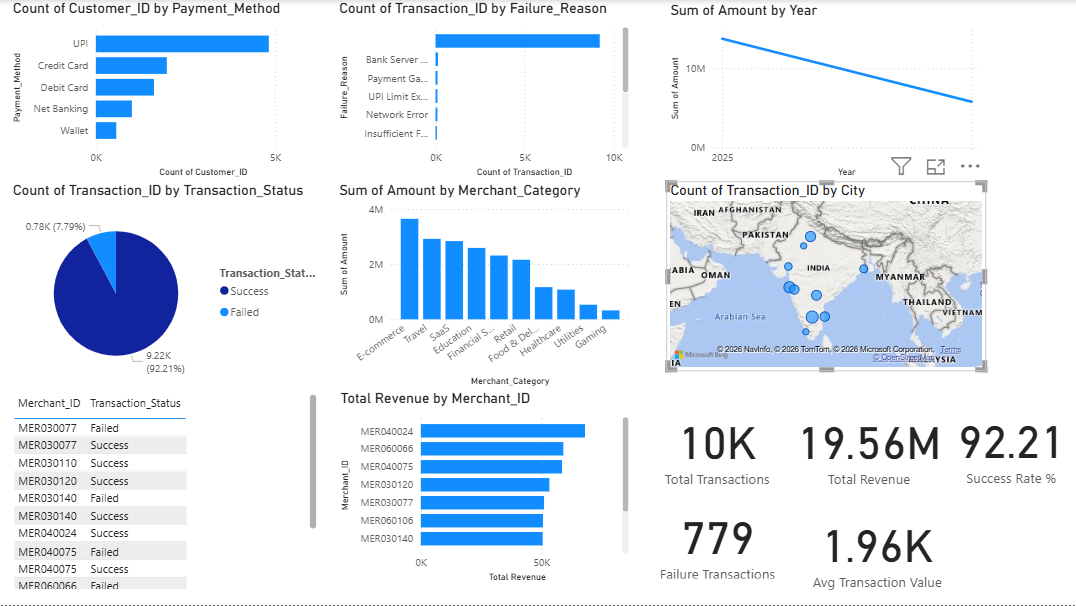

The dashboard page shown, as its layout file describes it:
{"tool":"powerbi","page":{"name":"Page 1","canvas":[1280,720],"ordinal":0},"visuals":[{"type":"clusteredBarChart","fields":{"Category":["cleaned_payment_data (1).Payment_Method"],"Y":["CountNonNull(cleaned_payment_data (1).Customer_ID)"]},"box":[9.8,0,371.7,215.2],"z":0},{"type":"pieChart","fields":{"Category":["cleaned_payment_data (1).Transaction_Status"],"Y":["CountNonNull(cleaned_payment_data (1).Transaction_ID)"]},"box":[9.8,215.2,371.7,248.2],"z":1},{"type":"clusteredBarChart","fields":{"Category":["cleaned_payment_data (1).Failure_Reason"],"Y":["CountNonNull(cleaned_payment_data (1).Transaction_ID)"]},"box":[398.6,0,354.6,215.2],"z":2},{"type":"clusteredColumnChart","fields":{"Category":["cleaned_payment_data (1).Merchant_Category"],"Y":["Sum(cleaned_payment_data (1).Amount)"]},"box":[398.6,215.2,354.6,248.2],"z":3},{"type":"lineChart","fields":{"Category":["cleaned_payment_data (1).Transaction_Date.Variation.Date Hierarchy.Year","cleaned_payment_data (1).Transaction_Date.Variation.Date Hierarchy.Quarter","cleaned_payment_data (1).Transaction_Date.Variation.Date Hierarchy.Month","cleaned_payment_data (1).Transaction_Date.Variation.Date Hierarchy.Day"],"Y":["Sum(cleaned_payment_data (1).Amount)"]},"box":[792.4,1.2,381.5,214],"z":4},{"type":"map","fields":{"Category":["cleaned_payment_data (1).City"],"Size":["CountNonNull(cleaned_payment_data (1).Transaction_ID)"]},"box":[792.6,215.6,380.7,226],"z":5},{"type":"tableEx","fields":{"Values":["cleaned_payment_data (1).Merchant_ID","cleaned_payment_data (1).Transaction_Status"]},"box":[9.8,463.5,371.7,242.1],"z":6},{"type":"clusteredBarChart","fields":{"Category":["cleaned_payment_data (1).Merchant_ID"],"Y":["cleaned_payment_data (1).Total Revenue"]},"box":[399.9,463.5,353.4,233.6],"z":7},{"type":"card","fields":{"Values":["cleaned_payment_data (1).Total Transactions"]},"box":[753.3,463.5,199.3,133.3],"z":8},{"type":"card","fields":{"Values":["cleaned_payment_data (1).Total Revenue"]},"box":[934.2,463.5,200.5,133.3],"z":9},{"type":"card","fields":{"Values":["cleaned_payment_data (1).Failure Transactions"]},"box":[772.8,596.7,161.4,96.6],"z":10},{"type":"card","fields":{"Values":["cleaned_payment_data (1).Avg Transaction Value"]},"box":[953.2,600.7,181.4,105.6],"z":11},{"type":"card","fields":{"Values":["cleaned_payment_data (1).Success Rate %"]},"box":[1125,472,155.3,116.2],"z":12}]}

Visuals, with their boxes in screenshot pixels (x1, y1, x2, y2), scaled from the page's 1280x720 canvas onto the 1076x606 screenshot:
clusteredBarChart - cleaned_payment_data (1).Payment_Method x CountNonNull(cleaned_payment_data (1).Customer_ID): [left=8, top=0, right=321, bottom=181]
pieChart - cleaned_payment_data (1).Transaction_Status x CountNonNull(cleaned_payment_data (1).Transaction_ID): [left=8, top=181, right=321, bottom=390]
clusteredBarChart - cleaned_payment_data (1).Failure_Reason x CountNonNull(cleaned_payment_data (1).Transaction_ID): [left=335, top=0, right=633, bottom=181]
clusteredColumnChart - cleaned_payment_data (1).Merchant_Category x Sum(cleaned_payment_data (1).Amount): [left=335, top=181, right=633, bottom=390]
lineChart - cleaned_payment_data (1).Transaction_Date.Variation.Date Hierarchy.Year x cleaned_payment_data (1).Transaction_Date.Variation.Date Hierarchy.Quarter: [left=666, top=1, right=987, bottom=181]
map - cleaned_payment_data (1).City x CountNonNull(cleaned_payment_data (1).Transaction_ID): [left=666, top=181, right=986, bottom=372]
tableEx - cleaned_payment_data (1).Merchant_ID x cleaned_payment_data (1).Transaction_Status: [left=8, top=390, right=321, bottom=594]
clusteredBarChart - cleaned_payment_data (1).Merchant_ID x cleaned_payment_data (1).Total Revenue: [left=336, top=390, right=633, bottom=587]
card - cleaned_payment_data (1).Total Transactions: [left=633, top=390, right=801, bottom=502]
card - cleaned_payment_data (1).Total Revenue: [left=785, top=390, right=954, bottom=502]
card - cleaned_payment_data (1).Failure Transactions: [left=650, top=502, right=785, bottom=584]
card - cleaned_payment_data (1).Avg Transaction Value: [left=801, top=506, right=954, bottom=594]
card - cleaned_payment_data (1).Success Rate %: [left=946, top=397, right=1075, bottom=495]
